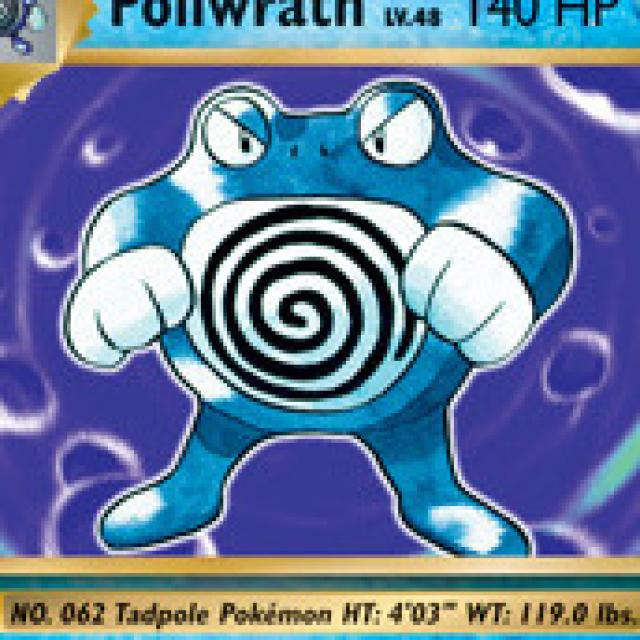Poliwrath: (71, 77, 582, 548)
